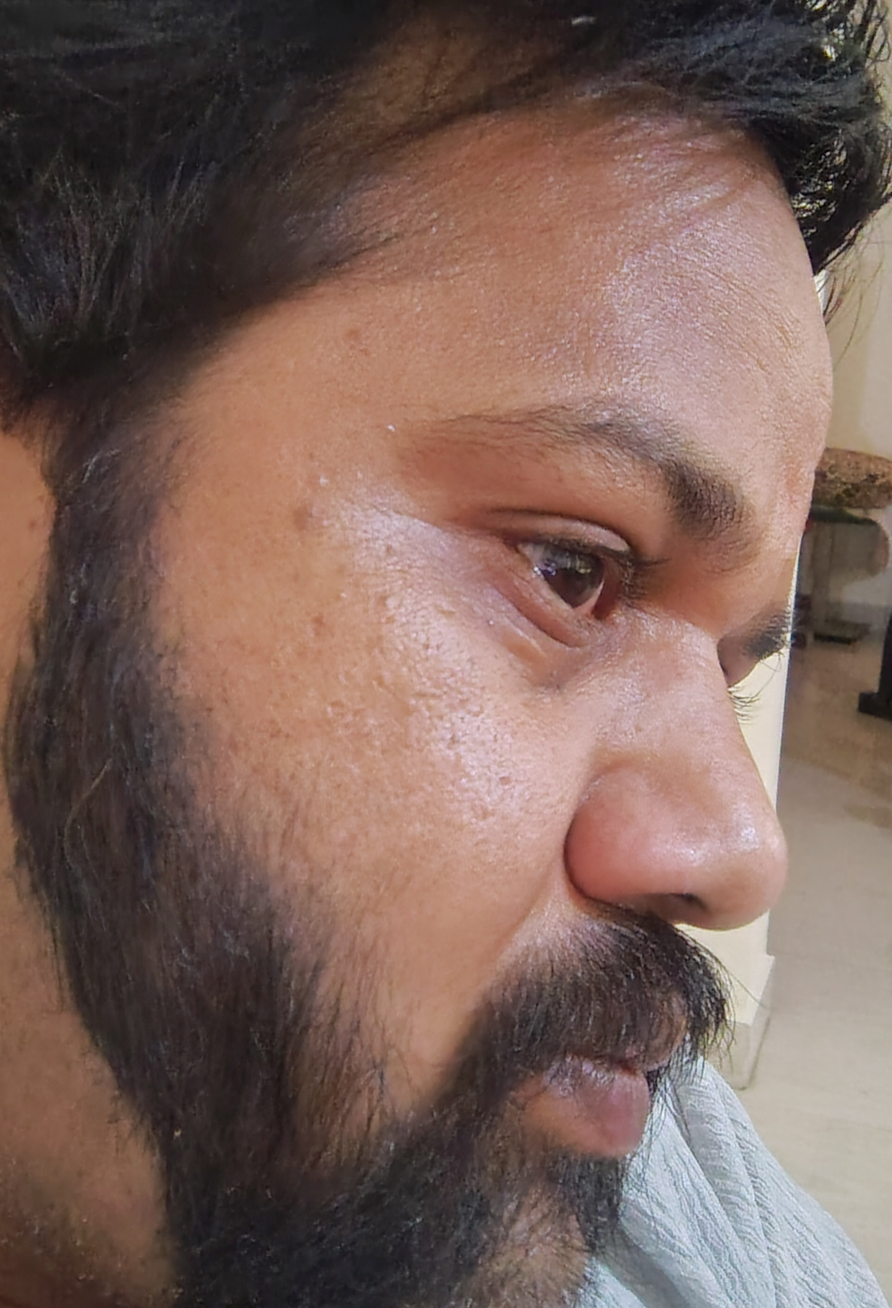closed_comedone: (321, 579, 384, 629), (299, 454, 338, 530)
